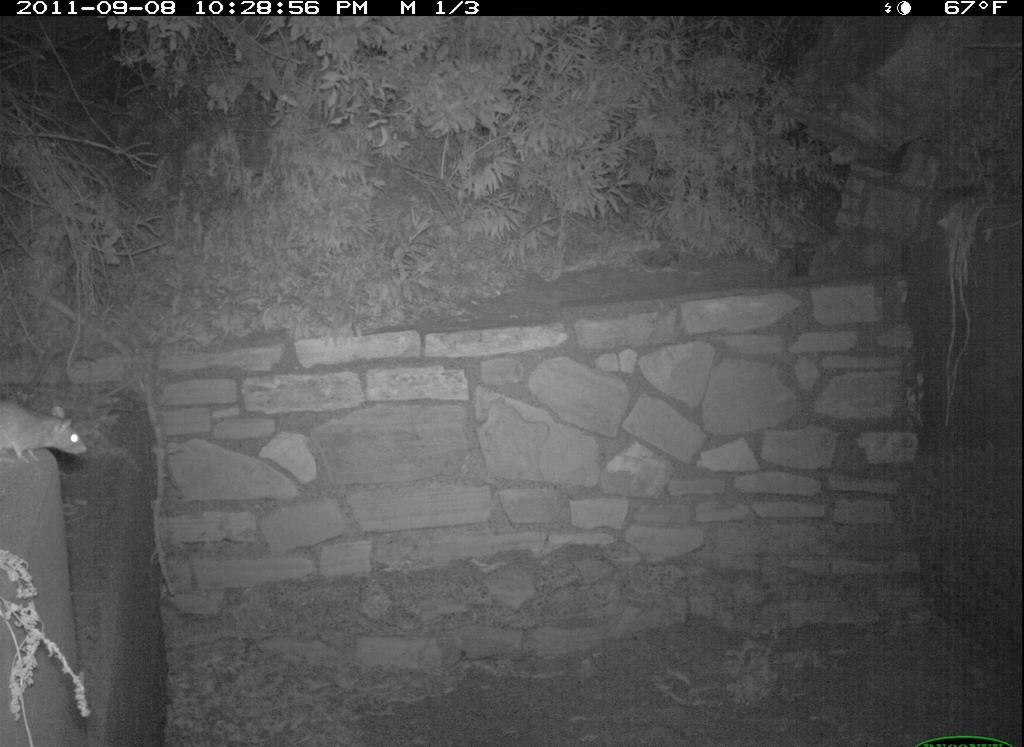rodent: (4, 395, 95, 463)
